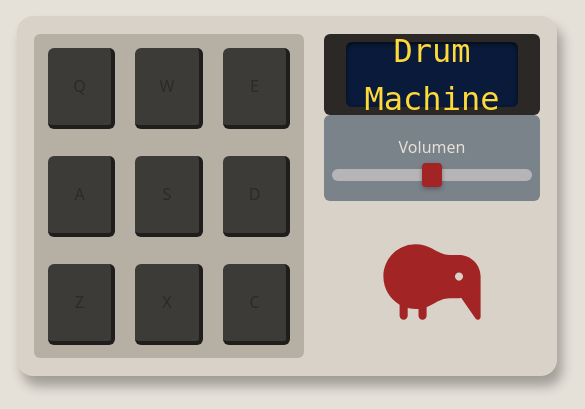
Test case: app › running on desktop › check update volume for all clips when slider moves
Set the slider to "0.7" at (469, 175), box [332,169,532,181]
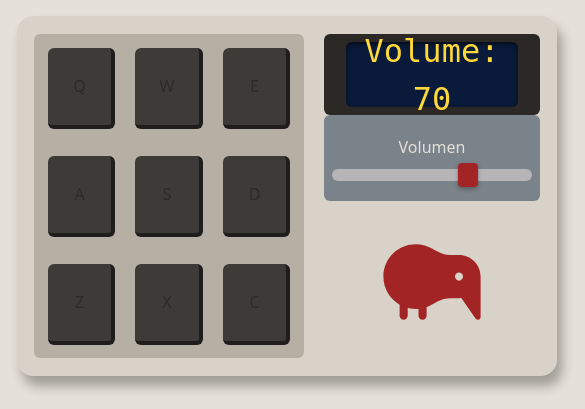
Expected: the text with class "lcd" reads "Volume: 70", [346,42,519,107]
